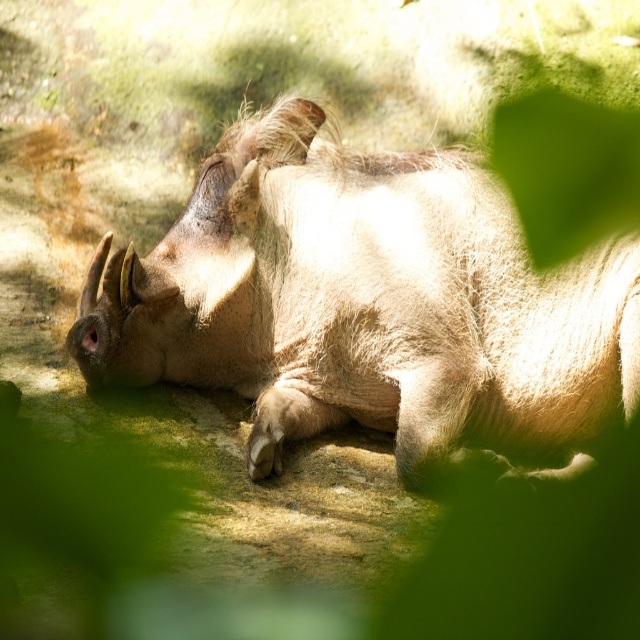Hippopotamus: (66, 90, 640, 494)
